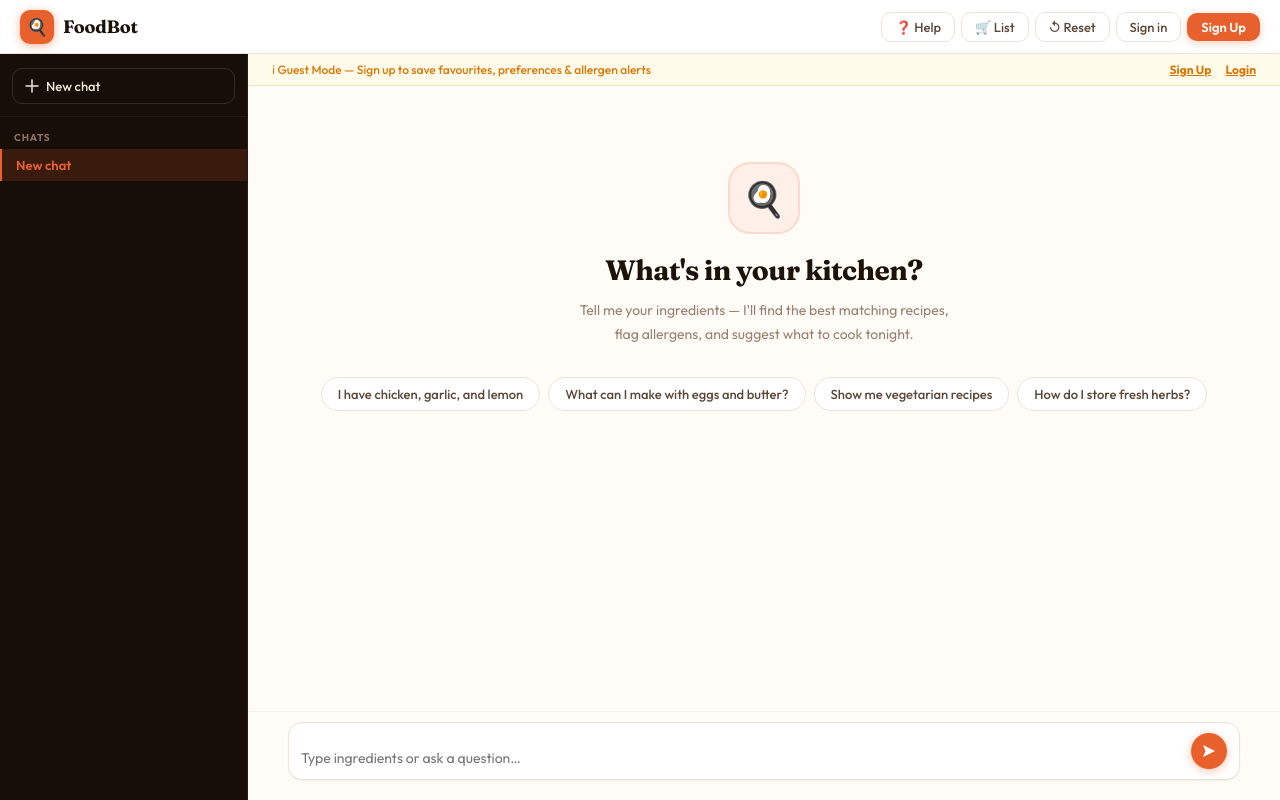
Scenario: Shopping list navigation › navigates back to chat when Back button is clicked on shopping list page
Click the button titled "Shopping List" at (995, 26), box [961,12,1028,42]
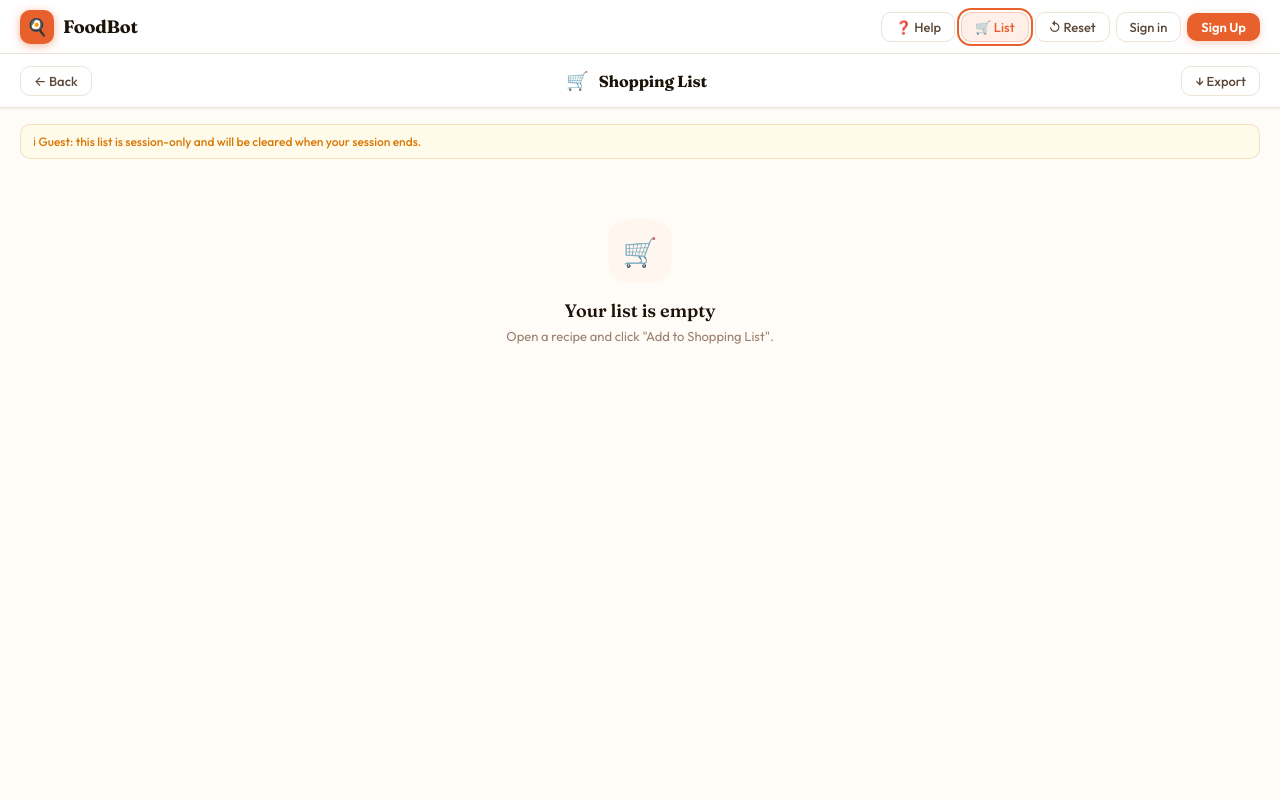
Result: the text "Your list is empty" is shown at [564,299,715,322]
Click the button "← Back" at (56, 80), box [20,66,92,96]
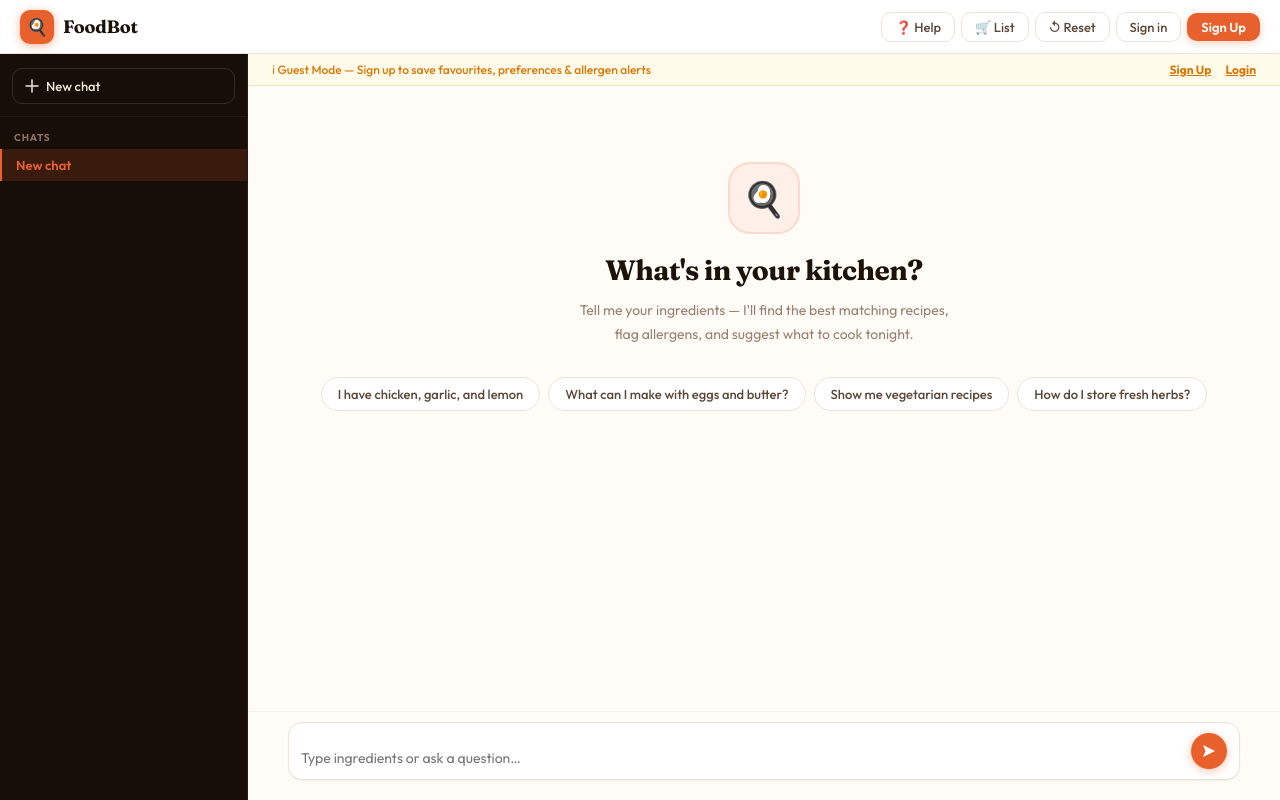
Result: the text box with placeholder "Type ingredients or ask a question…" is shown at [301,748,1181,769]
